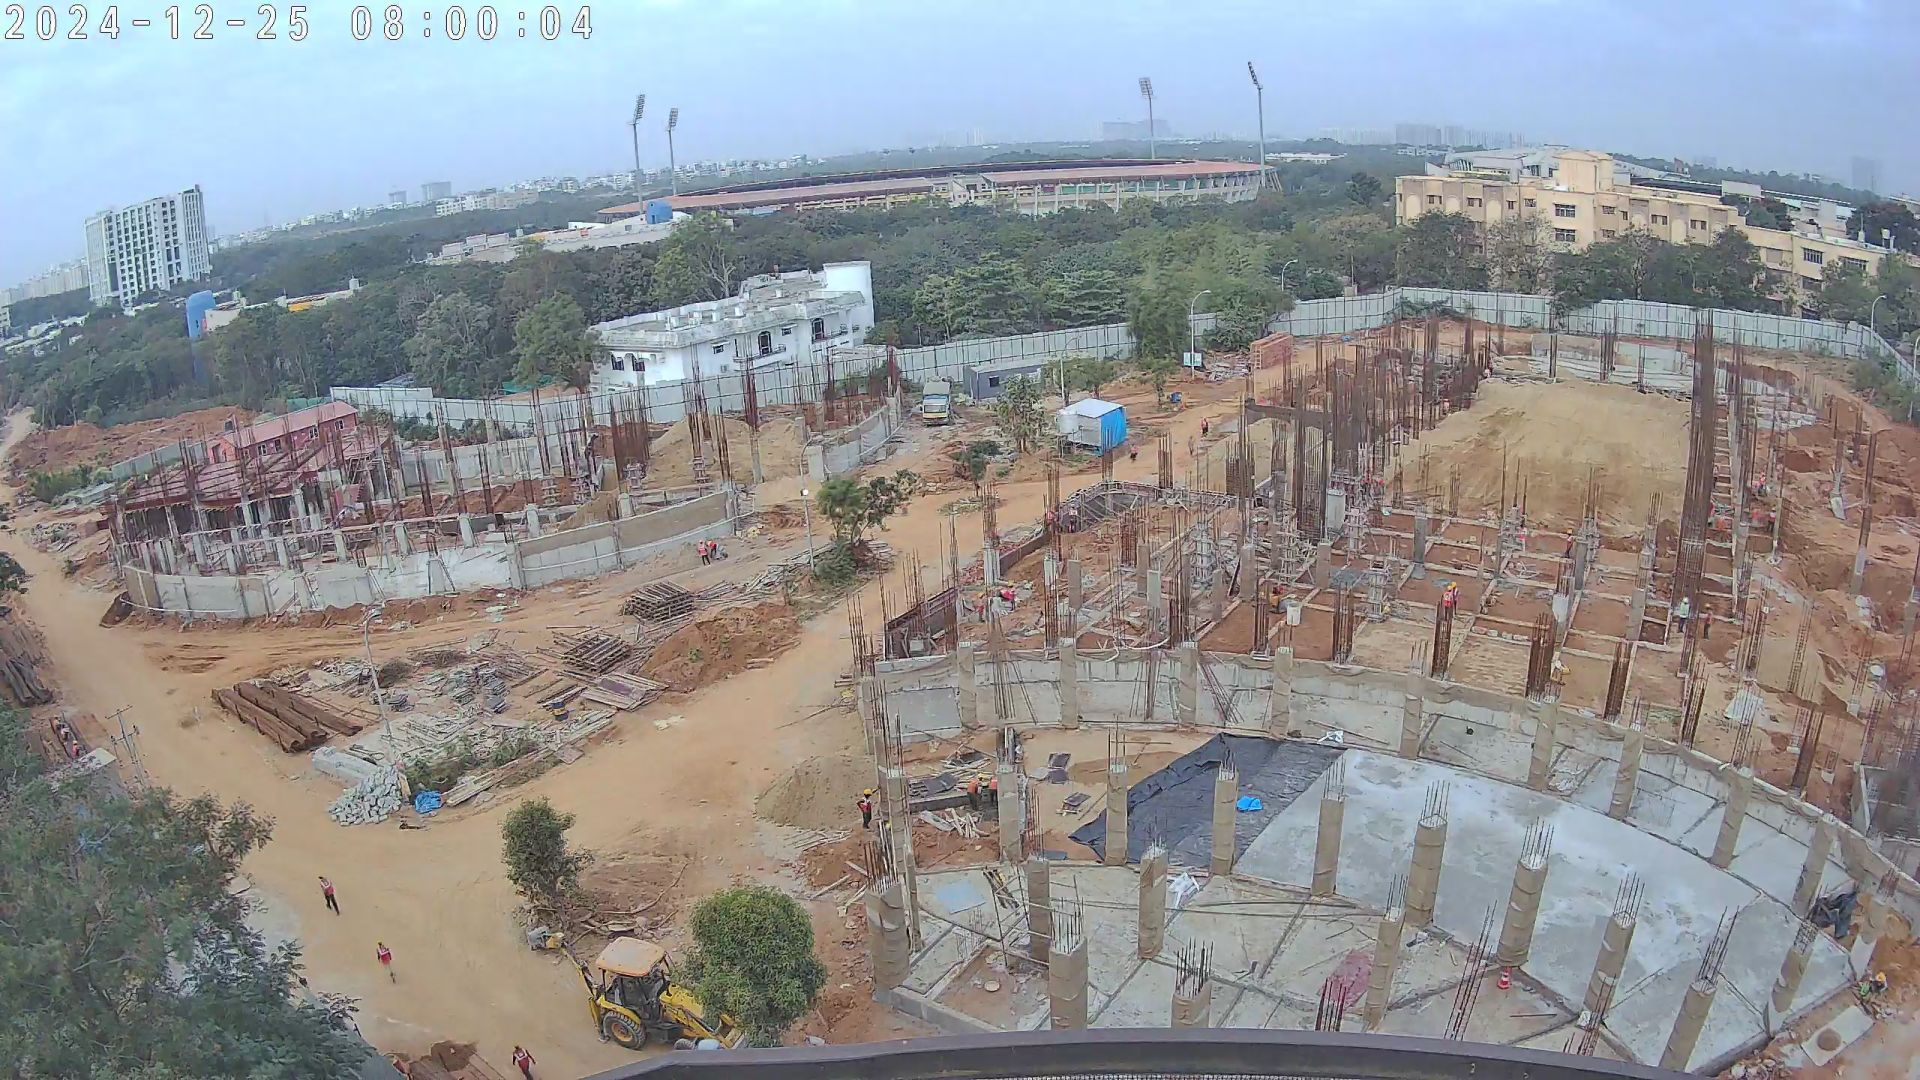bulldozer: (544, 928, 754, 1056)
truck: (917, 380, 955, 431)
worker: (316, 874, 341, 924), (376, 940, 401, 986), (511, 1040, 537, 1080), (1440, 576, 1460, 626), (1266, 577, 1290, 618), (854, 786, 876, 830), (964, 777, 981, 817), (986, 777, 1007, 808), (1674, 590, 1687, 637), (1563, 527, 1577, 568), (1697, 607, 1713, 640), (1199, 416, 1214, 451), (976, 589, 988, 623), (1875, 968, 1887, 1000), (1045, 508, 1059, 535), (1127, 440, 1140, 468), (695, 537, 708, 565), (1712, 460, 1722, 490), (1705, 498, 1718, 521), (1068, 504, 1078, 533), (1185, 432, 1196, 457), (1770, 504, 1777, 540), (1007, 583, 1017, 608), (1751, 503, 1759, 530), (1375, 473, 1386, 492), (1758, 473, 1766, 495), (708, 540, 718, 556)
